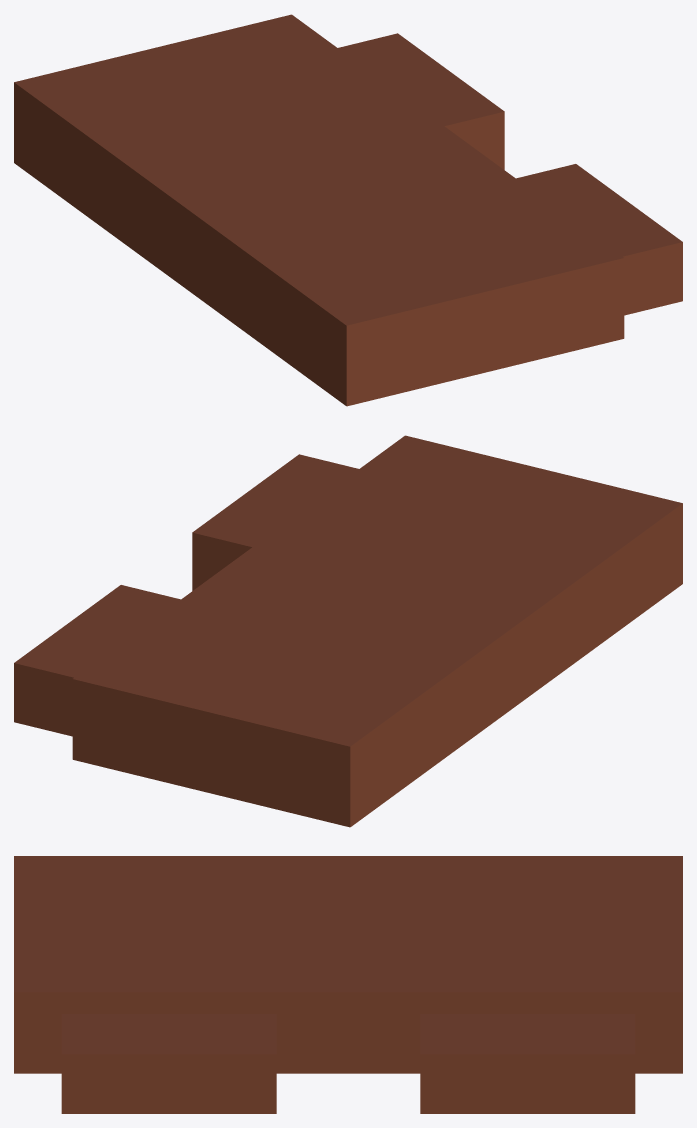
File: admin-low.glb
The picture shows the model from 3 angles, top to bottom: view 1: azimuth 30°, elevation 25°; view 2: azimuth 150°, elevation 25°; view 3: azimuth 270°, elevation 25°; orthographic projection.
Bounding box in the file's own units: 70 × 15 × 112.
